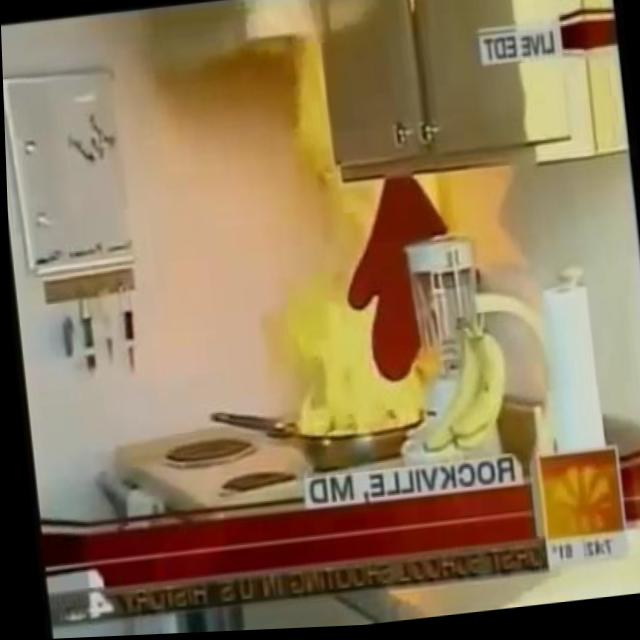fire: (240, 25, 462, 446)
